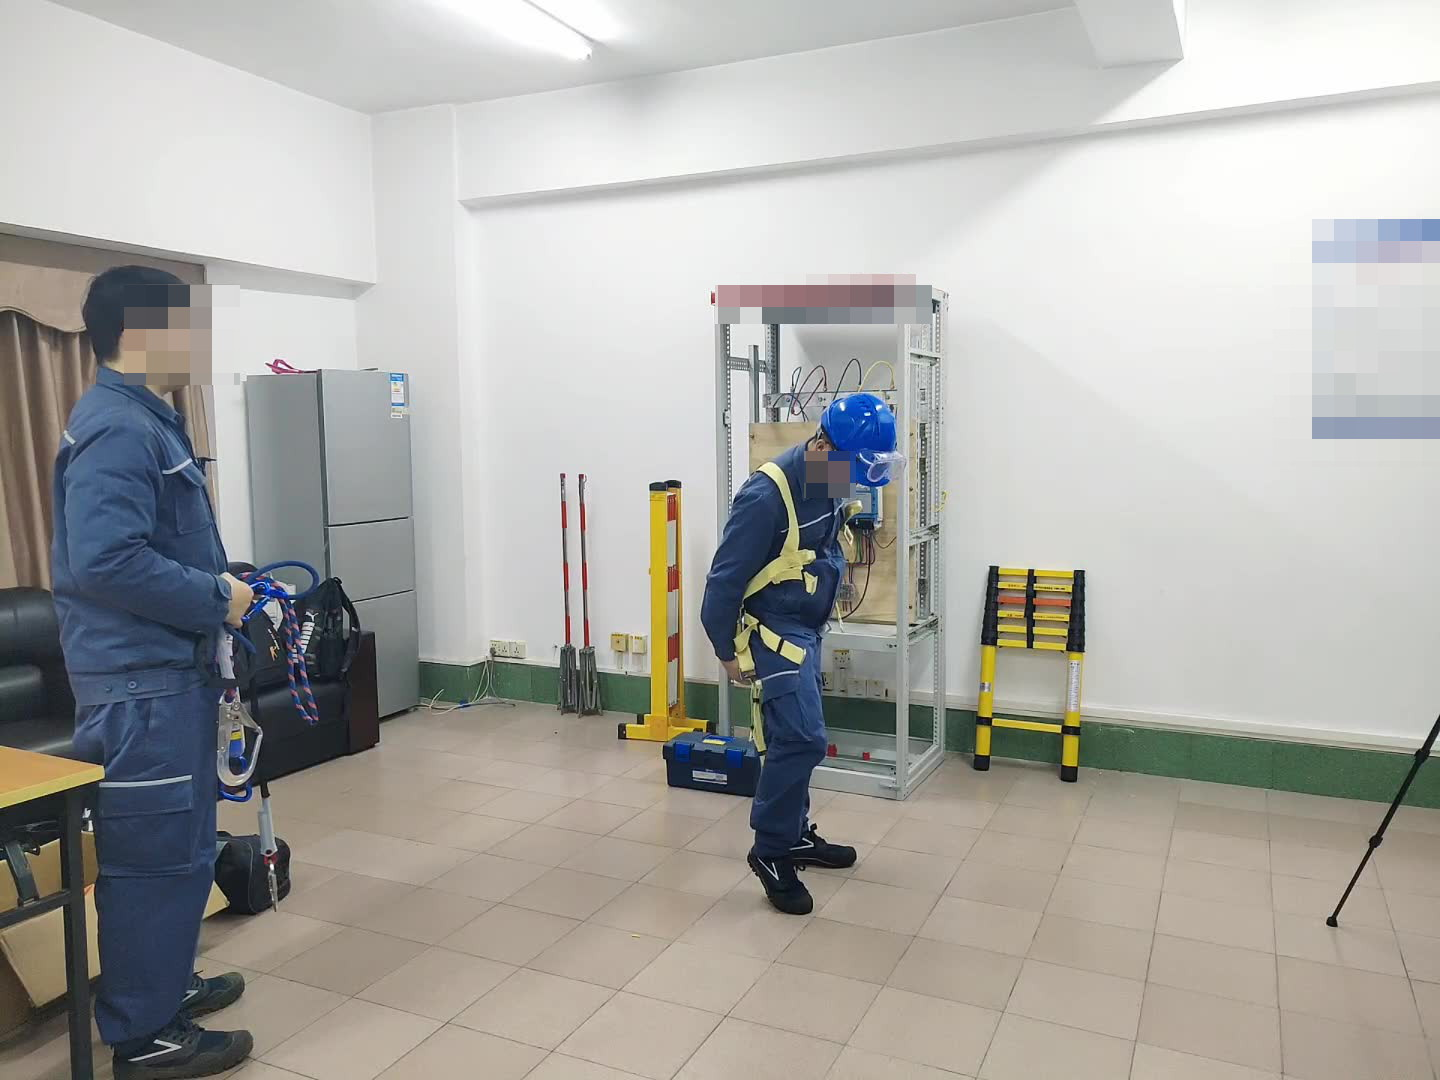downsuit: (71, 704, 230, 1054), (744, 600, 843, 847)
halt: (821, 390, 899, 491)
hand: (219, 569, 257, 635)
inear: (804, 430, 837, 486)
noear: (113, 312, 175, 377)
person: (42, 258, 292, 1080), (703, 384, 901, 906)
safebelt: (717, 452, 863, 774)
unhalt: (78, 265, 212, 397)
upsuit: (53, 384, 226, 686), (701, 430, 861, 656)
